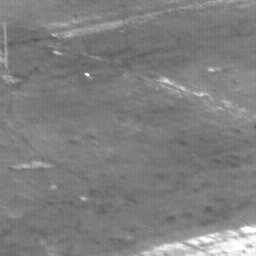aircraft: (86, 74, 88, 76)
